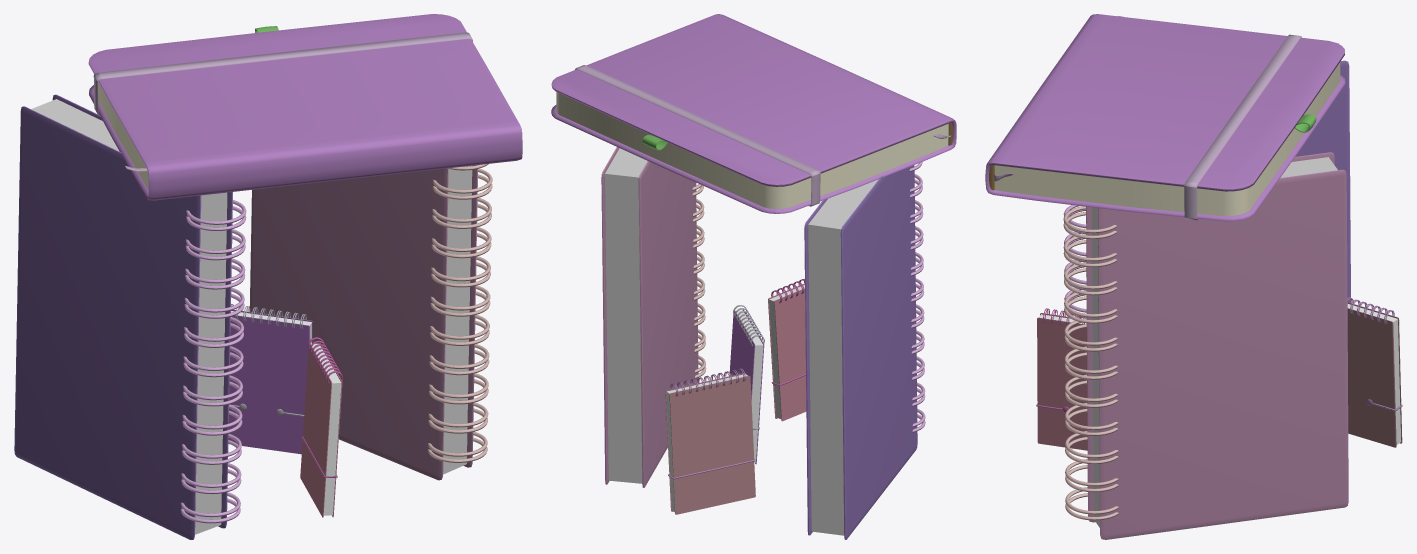
The model's file is book door.fbx.
3 renders of one model, left to right at view 1: azimuth 30°, elevation 25°; view 2: azimuth 150°, elevation 25°; view 3: azimuth 270°, elevation 25°, orthographic. The views are drawn at different scales.
Parts seen in each view (by area): view 1: notebook_with_springs.004, leather_notebook.009, notebook_with_springs.005, small_notepad.006, small_notepad.008; view 2: leather_notebook.009, notebook_with_springs.004, notebook_with_springs.005, small_notepad.007, small_notepad.008, small_notepad.006; view 3: notebook_with_springs.005, leather_notebook.009, small_notepad.007, small_notepad.008, notebook_with_springs.004.
Part boxes in pixels (<box>): notebook_with_springs.004: <box>14,94,246,539</box>; leather_notebook.009: <box>88,14,522,200</box>; notebook_with_springs.005: <box>249,164,492,480</box>; small_notepad.006: <box>228,304,313,454</box>; small_notepad.008: <box>300,337,342,517</box>; leather_notebook.009: <box>551,14,956,213</box>; notebook_with_springs.004: <box>804,162,925,539</box>; notebook_with_springs.005: <box>601,147,706,487</box>; small_notepad.007: <box>665,368,755,514</box>; small_notepad.008: <box>768,279,806,421</box>; small_notepad.006: <box>729,305,764,464</box>; notebook_with_springs.005: <box>1063,152,1348,539</box>; leather_notebook.009: <box>985,14,1345,221</box>; small_notepad.007: <box>1347,297,1402,447</box>; small_notepad.008: <box>1036,308,1087,450</box>; notebook_with_springs.004: <box>1063,43,1350,318</box>.
Size of the model in its own units: 2384 by 2274 by 2276.
